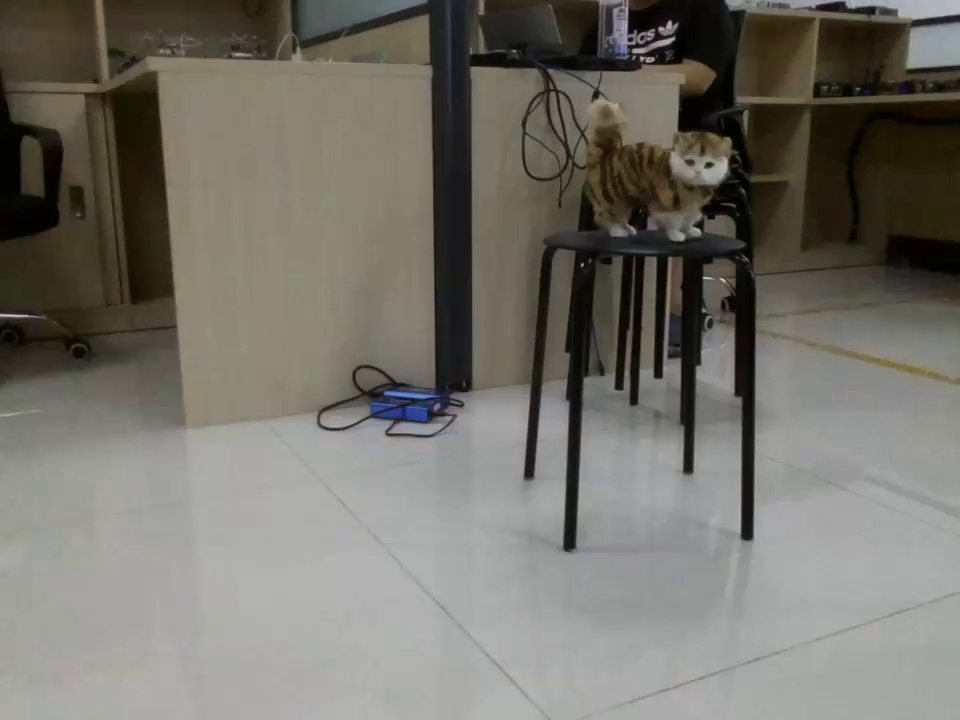cat: (583, 101, 736, 242)
